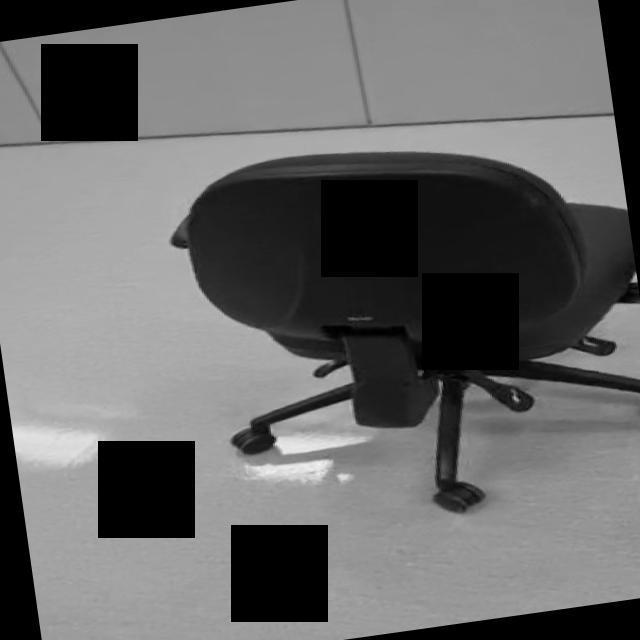chair: (161, 110, 640, 545)
